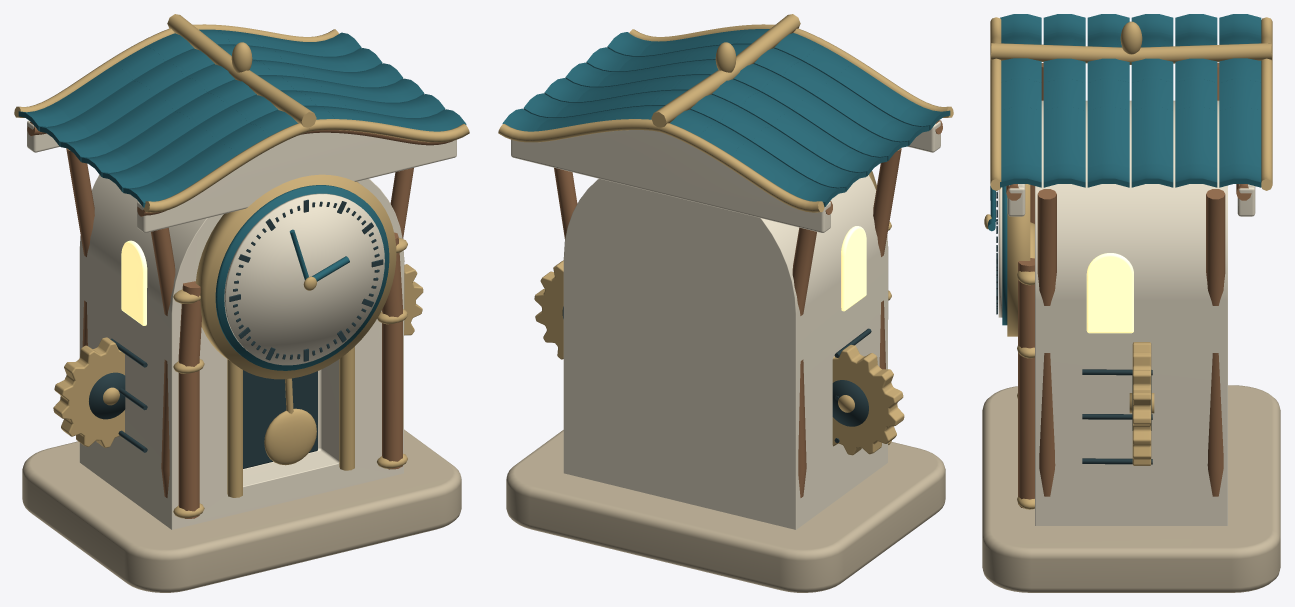
File: echo_clock_sculpted_v2.glb
3 views of the same model, side by side, from view 1: azimuth 30°, elevation 25°; view 2: azimuth 150°, elevation 25°; view 3: azimuth 270°, elevation 25° (orthographic). The views are drawn at different scales.
Parts seen in each view (by area): view 1: echo_clock_sculpted_v2__Enamel_ClockIvory, echo_clock_sculpted_v2__Enamel_ClockTeal, echo_clock_sculpted_v2__Carved cream stone, echo_clock_sculpted_v2__Enamel_ClockChampagne, echo_clock_sculpted_v2__FurnitureWood_WaxedChestnut, echo_clock_sculpted_v2__Recessed mechanism, echo_clock_sculpted_v2__Warm time light; view 2: echo_clock_sculpted_v2__Enamel_ClockIvory, echo_clock_sculpted_v2__Enamel_ClockTeal, echo_clock_sculpted_v2__Carved cream stone, echo_clock_sculpted_v2__Enamel_ClockChampagne, echo_clock_sculpted_v2__FurnitureWood_WaxedChestnut, echo_clock_sculpted_v2__Warm time light, echo_clock_sculpted_v2__Recessed mechanism; view 3: echo_clock_sculpted_v2__Enamel_ClockIvory, echo_clock_sculpted_v2__Enamel_ClockTeal, echo_clock_sculpted_v2__Carved cream stone, echo_clock_sculpted_v2__Enamel_ClockChampagne, echo_clock_sculpted_v2__FurnitureWood_WaxedChestnut, echo_clock_sculpted_v2__Warm time light, echo_clock_sculpted_v2__Recessed mechanism.
Boxes of the visible parts, x1,y1,x2,y2 form: echo_clock_sculpted_v2__Enamel_ClockIvory: [27, 120, 456, 529]; echo_clock_sculpted_v2__Enamel_ClockTeal: [18, 29, 466, 370]; echo_clock_sculpted_v2__Carved cream stone: [22, 429, 461, 592]; echo_clock_sculpted_v2__Enamel_ClockChampagne: [14, 14, 469, 518]; echo_clock_sculpted_v2__FurnitureWood_WaxedChestnut: [27, 122, 453, 518]; echo_clock_sculpted_v2__Recessed mechanism: [89, 199, 383, 468]; echo_clock_sculpted_v2__Warm time light: [121, 240, 147, 325]; echo_clock_sculpted_v2__Enamel_ClockIvory: [511, 121, 940, 529]; echo_clock_sculpted_v2__Enamel_ClockTeal: [502, 29, 950, 207]; echo_clock_sculpted_v2__Carved cream stone: [506, 430, 945, 592]; echo_clock_sculpted_v2__Enamel_ClockChampagne: [498, 14, 953, 455]; echo_clock_sculpted_v2__FurnitureWood_WaxedChestnut: [554, 120, 942, 497]; echo_clock_sculpted_v2__Warm time light: [841, 226, 866, 311]; echo_clock_sculpted_v2__Recessed mechanism: [562, 306, 871, 442]; echo_clock_sculpted_v2__Enamel_ClockIvory: [998, 100, 1255, 525]; echo_clock_sculpted_v2__Enamel_ClockTeal: [988, 14, 1261, 325]; echo_clock_sculpted_v2__Carved cream stone: [982, 385, 1280, 592]; echo_clock_sculpted_v2__Enamel_ClockChampagne: [984, 17, 1272, 509]; echo_clock_sculpted_v2__FurnitureWood_WaxedChestnut: [1006, 62, 1251, 508]; echo_clock_sculpted_v2__Warm time light: [1086, 253, 1133, 333]; echo_clock_sculpted_v2__Recessed mechanism: [996, 190, 1152, 464].
Size of the model in its own units: 2.49 by 3.08 by 1.7.
